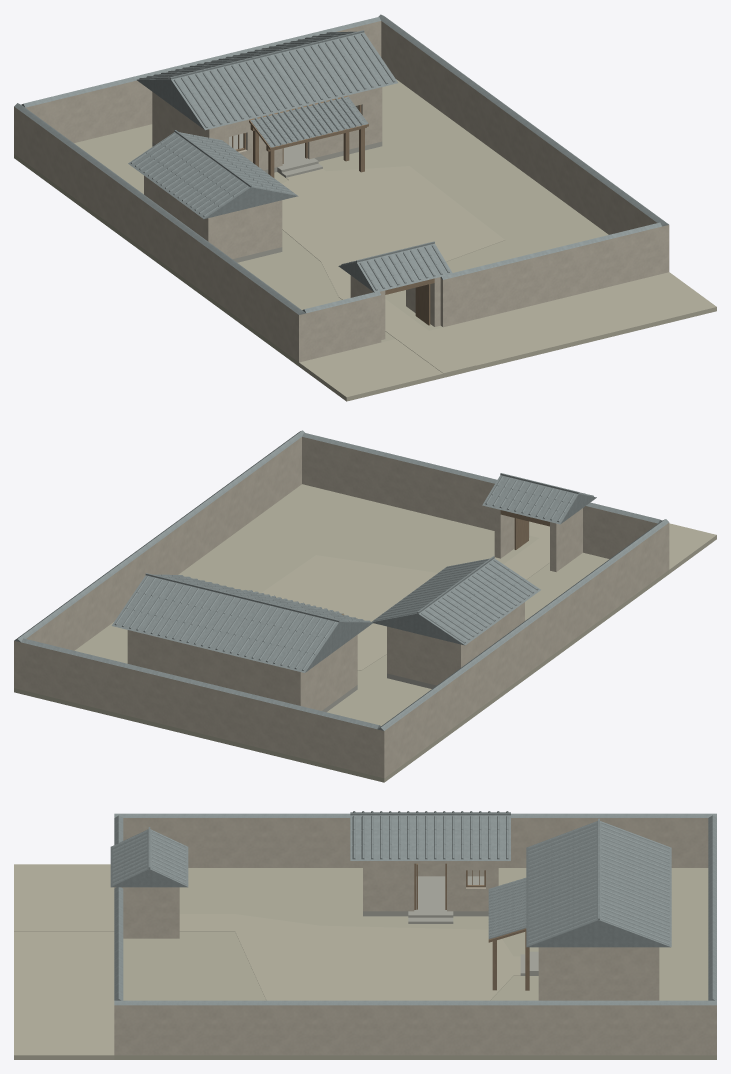
The model's file is A2-shallow.glb.
The picture shows the model from 3 angles, top to bottom: view 1: azimuth 30°, elevation 25°; view 2: azimuth 150°, elevation 25°; view 3: azimuth 270°, elevation 25°; orthographic projection. The views are drawn at different scales.
Visible parts, largest first — view 1: architecture_C_whitebox_earth_wall.001, architecture_C_roof_rhythm_not_glaze_copy.001, site_lot, designed_hardpacked_activity_ground, site_neutral_lane, C_TRANSITION_tile_shells, architecture_C_floor_plinth.001, architecture_C_plain_timber.001; view 2: architecture_C_whitebox_earth_wall.001, architecture_C_roof_rhythm_not_glaze_copy.001, site_lot, designed_hardpacked_activity_ground, site_neutral_lane, architecture_C_plain_timber.001; view 3: architecture_C_whitebox_earth_wall.001, architecture_C_roof_rhythm_not_glaze_copy.001, site_lot, designed_hardpacked_activity_ground, site_neutral_lane, architecture_C_floor_plinth.001, C_TRANSITION_tile_shells, architecture_C_plain_timber.001.
Part boxes in pixels (left/top/right/bottom): architecture_C_whitebox_earth_wall.001: left=14, top=21, right=669, bottom=362; architecture_C_roof_rhythm_not_glaze_copy.001: left=14, top=14, right=668, bottom=314; site_lot: left=14, top=79, right=608, bottom=366; designed_hardpacked_activity_ground: left=281, top=166, right=504, bottom=373; site_neutral_lane: left=299, top=272, right=716, bottom=401; C_TRANSITION_tile_shells: left=250, top=96, right=368, bottom=147; architecture_C_floor_plinth.001: left=152, top=133, right=382, bottom=262; architecture_C_plain_timber.001: left=232, top=105, right=434, bottom=325; architecture_C_whitebox_earth_wall.001: left=14, top=437, right=669, bottom=778; architecture_C_roof_rhythm_not_glaze_copy.001: left=14, top=430, right=669, bottom=730; site_lot: left=14, top=484, right=669, bottom=782; designed_hardpacked_activity_ground: left=261, top=530, right=549, bottom=670; site_neutral_lane: left=529, top=521, right=716, bottom=573; architecture_C_plain_timber.001: left=500, top=510, right=549, bottom=549; architecture_C_whitebox_earth_wall.001: left=114, top=818, right=716, bottom=1055; architecture_C_roof_rhythm_not_glaze_copy.001: left=110, top=811, right=716, bottom=1005; site_lot: left=114, top=868, right=716, bottom=1059; designed_hardpacked_activity_ground: left=14, top=914, right=520, bottom=1000; site_neutral_lane: left=14, top=864, right=114, bottom=1059; architecture_C_floor_plinth.001: left=363, top=876, right=538, bottom=975; C_TRANSITION_tile_shells: left=488, top=877, right=526, bottom=939; architecture_C_plain_timber.001: left=414, top=863, right=485, bottom=909.
Size of the model in its own units: 18 by 4.49 by 28.
6 materials, 3 textured.
